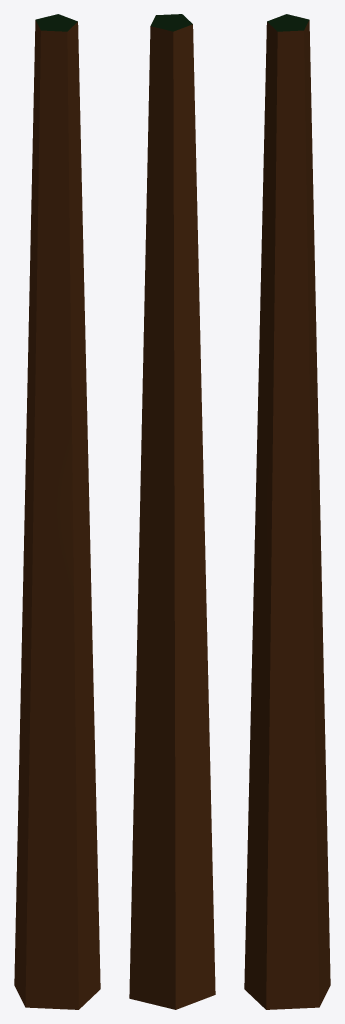
Rendered from Trunk1.obj.
3 renders of one model, left to right at view 1: azimuth 30°, elevation 25°; view 2: azimuth 150°, elevation 25°; view 3: azimuth 330°, elevation 25°, orthographic.
Parts seen in each view (by area): view 1: tree1; view 2: tree1; view 3: tree1.
Part boxes in pixels (left/top/right/bottom): tree1: left=14, top=14, right=100, bottom=1009; tree1: left=129, top=14, right=215, bottom=1009; tree1: left=244, top=14, right=330, bottom=1009.
Bounding box in the file's own units: 0.5772 × 7.12 × 0.549.
2 materials, 1 textured.
